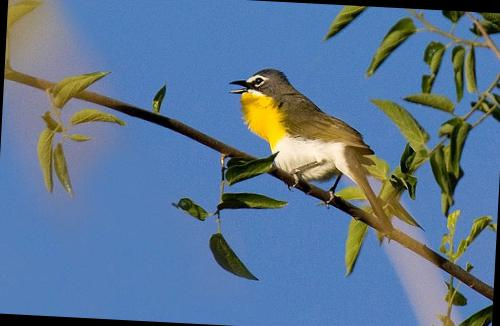bird: (214, 57, 411, 246)
